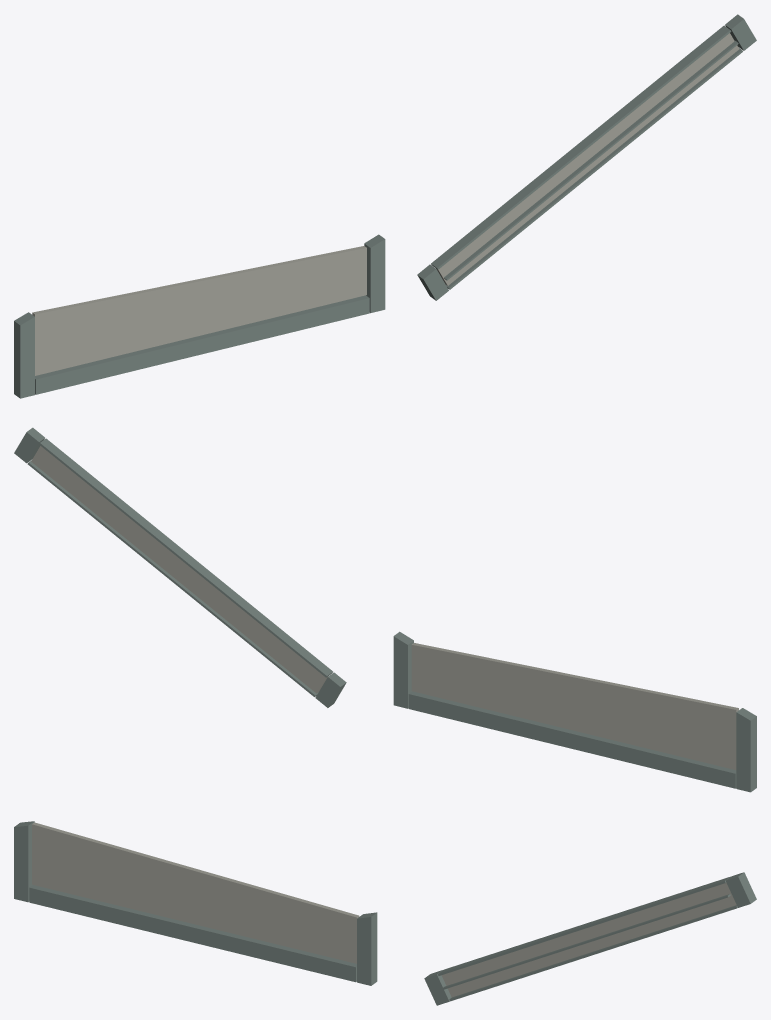
Rendered from SM_PuertaVehiculos_v1_ChapaOndulada_e2_MuyDanado_LOD1.fbx.
3 views of the same model, one above another, from view 1: azimuth 30°, elevation 25°; view 2: azimuth 150°, elevation 25°; view 3: azimuth 330°, elevation 25° (orthographic). The views are drawn at different scales.
Visible parts, largest first — view 1: Hoja_O, Hoja_E; view 2: Hoja_O, Hoja_E; view 3: Hoja_O, Hoja_E.
Part boxes in pixels (bbox=[...]): Hoja_O: bbox=[14, 234, 385, 398]; Hoja_E: bbox=[417, 14, 756, 300]; Hoja_O: bbox=[393, 631, 756, 792]; Hoja_E: bbox=[14, 427, 346, 707]; Hoja_O: bbox=[14, 821, 377, 985]; Hoja_E: bbox=[424, 872, 756, 1005].
Size of what is drawn, in the model's own units: 8.12 by 2.16 by 0.27.
